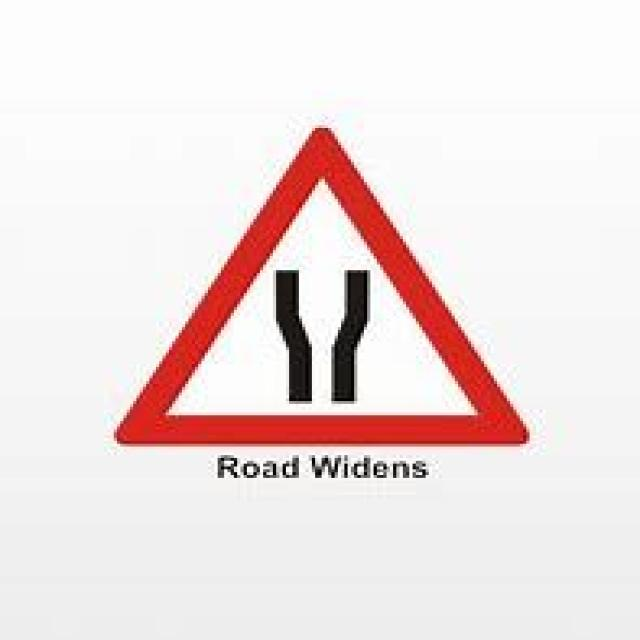do_not_turn_right: (107, 119, 530, 444)
